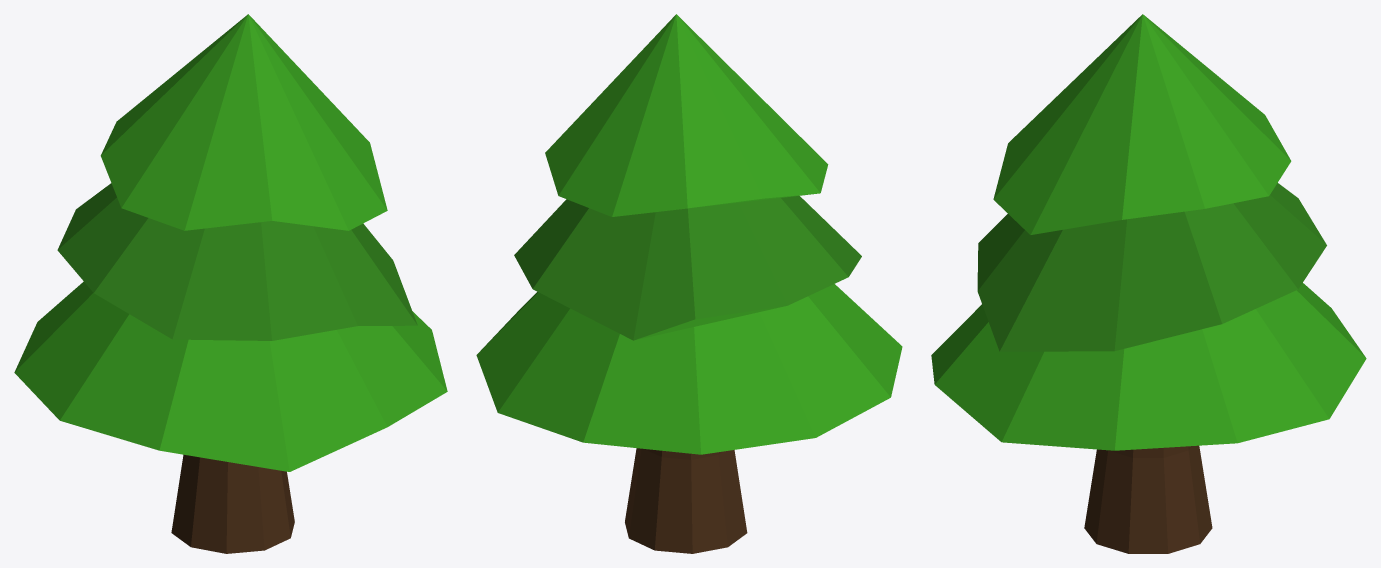
File: PinArv1.fbx
3 renders of one model, left to right at view 1: azimuth 30°, elevation 25°; view 2: azimuth 150°, elevation 25°; view 3: azimuth 270°, elevation 25°, orthographic. The views are drawn at different scales.
Visible parts, largest first — view 1: Cone; view 2: Cone; view 3: Cone.
Part boxes in pixels (<box>): Cone: <box>14,14,447,553</box>; Cone: <box>476,14,902,553</box>; Cone: <box>931,14,1366,553</box>.
Size of the model in its own units: 407 by 535 by 406.
